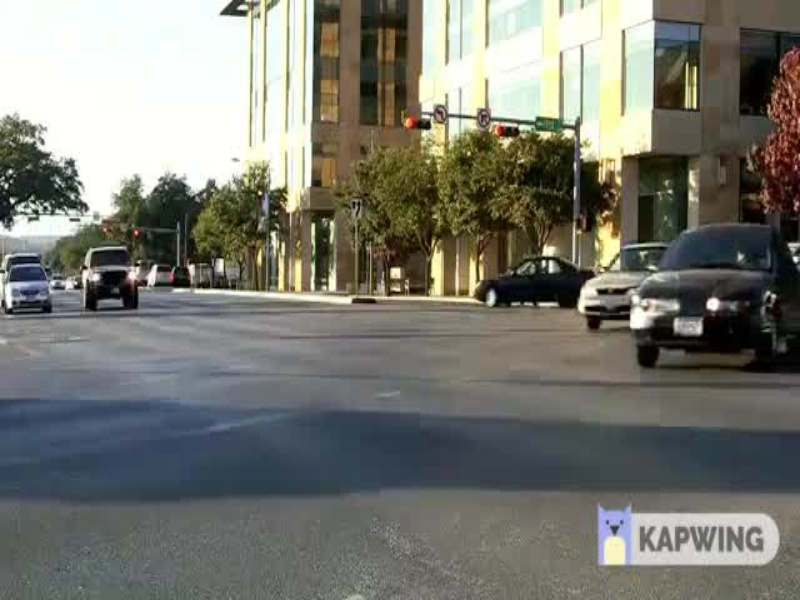car: (622, 218, 800, 378), (461, 256, 594, 314), (74, 239, 140, 314), (1, 263, 61, 320)
